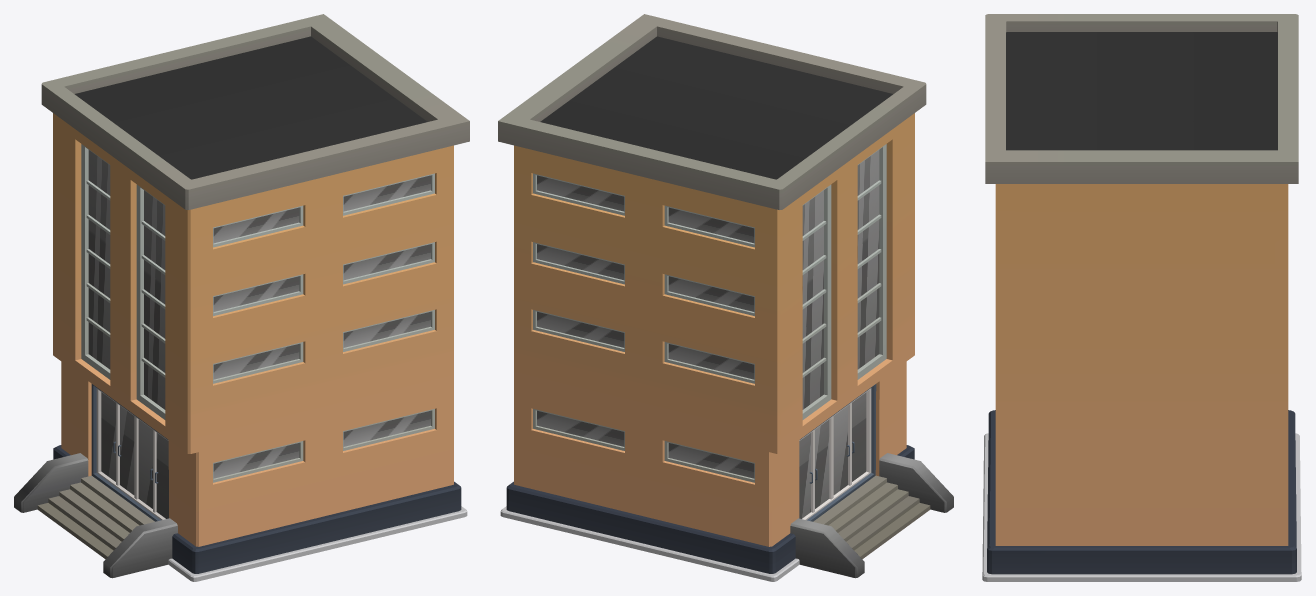
The model's file is Building_26_D.fbx.
3 renders of one model, left to right at view 1: azimuth 30°, elevation 25°; view 2: azimuth 150°, elevation 25°; view 3: azimuth 270°, elevation 25°, orthographic. The views are drawn at different scales.
Parts seen in each view (by area): view 1: Building_26_D; view 2: Building_26_D; view 3: Building_26_D.
Boxes of the visible parts, box(x1,y1,x2,y2) form: Building_26_D: box(14, 14, 469, 581); Building_26_D: box(498, 14, 953, 581); Building_26_D: box(982, 14, 1301, 581).
Size of the model in its own units: 923 by 1037 by 712.
